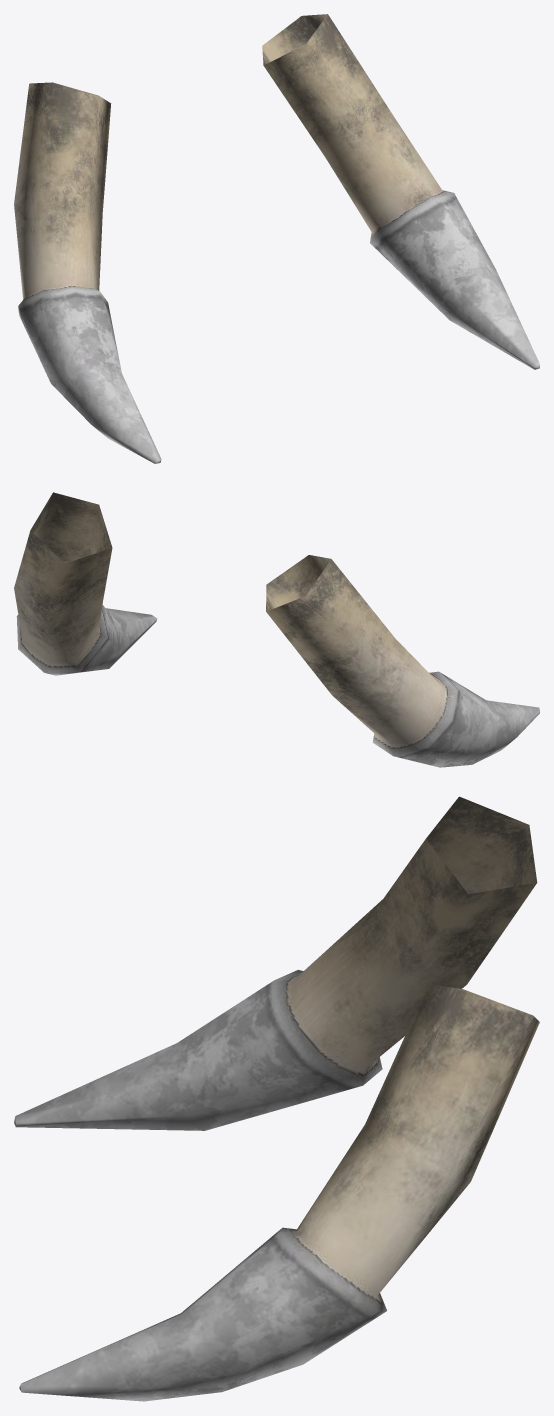
The model's file is tusk-heavywarelephants.glb.
3 views of the same model, one above another, from view 1: azimuth 30°, elevation 25°; view 2: azimuth 150°, elevation 25°; view 3: azimuth 270°, elevation 25° (orthographic). The views are drawn at different scales.
Size of the model in its own units: 1.21 by 0.6886 by 0.8857.
1 material, 1 textured.
